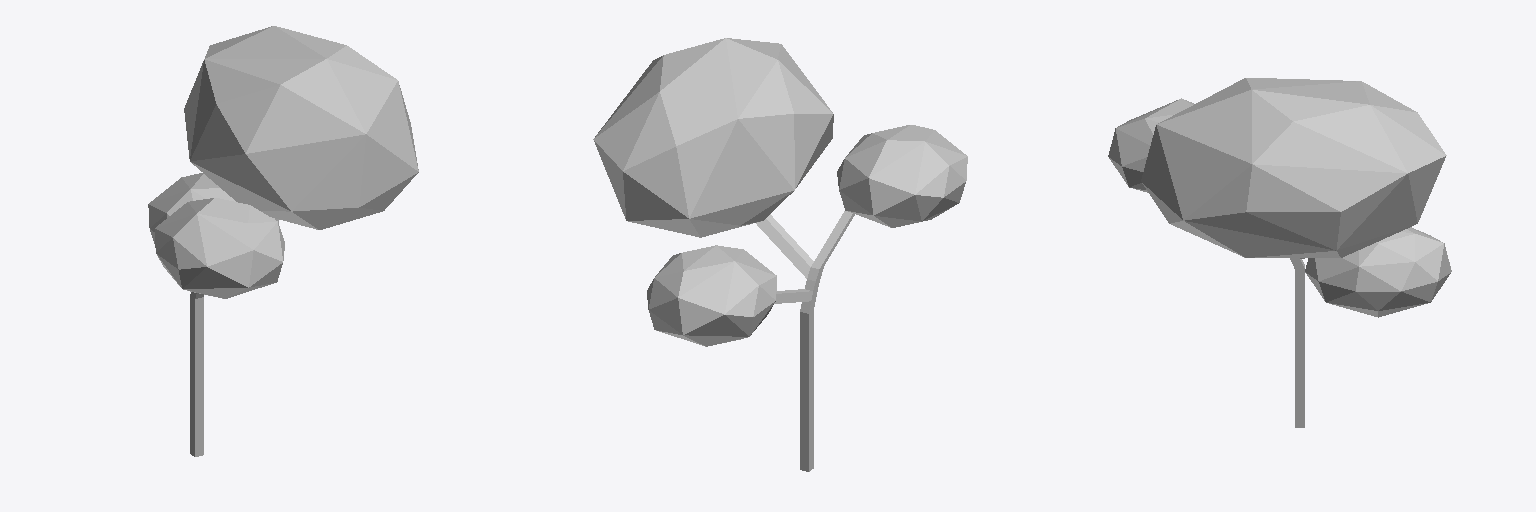
The model's file is awesome_tree.obj.
3 renders of one model, left to right at view 1: azimuth 30°, elevation 25°; view 2: azimuth 150°, elevation 25°; view 3: azimuth 270°, elevation 25°, orthographic.
Parts seen in each view (by area): view 1: Icosphere.002; view 2: Icosphere.002; view 3: Icosphere.002.
Boxes of the visible parts, box(x1,y1,x2,y2) form: Icosphere.002: box(148, 26, 418, 456); Icosphere.002: box(593, 38, 967, 471); Icosphere.002: box(1108, 78, 1451, 427).
Size of the model in its own units: 11.49 by 15.42 by 12.4.